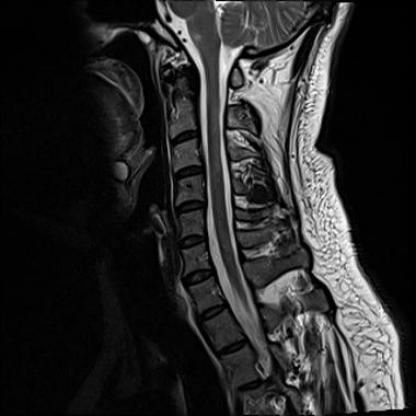Disc Bulgerotation: (183, 264, 215, 291), (174, 162, 204, 187)
